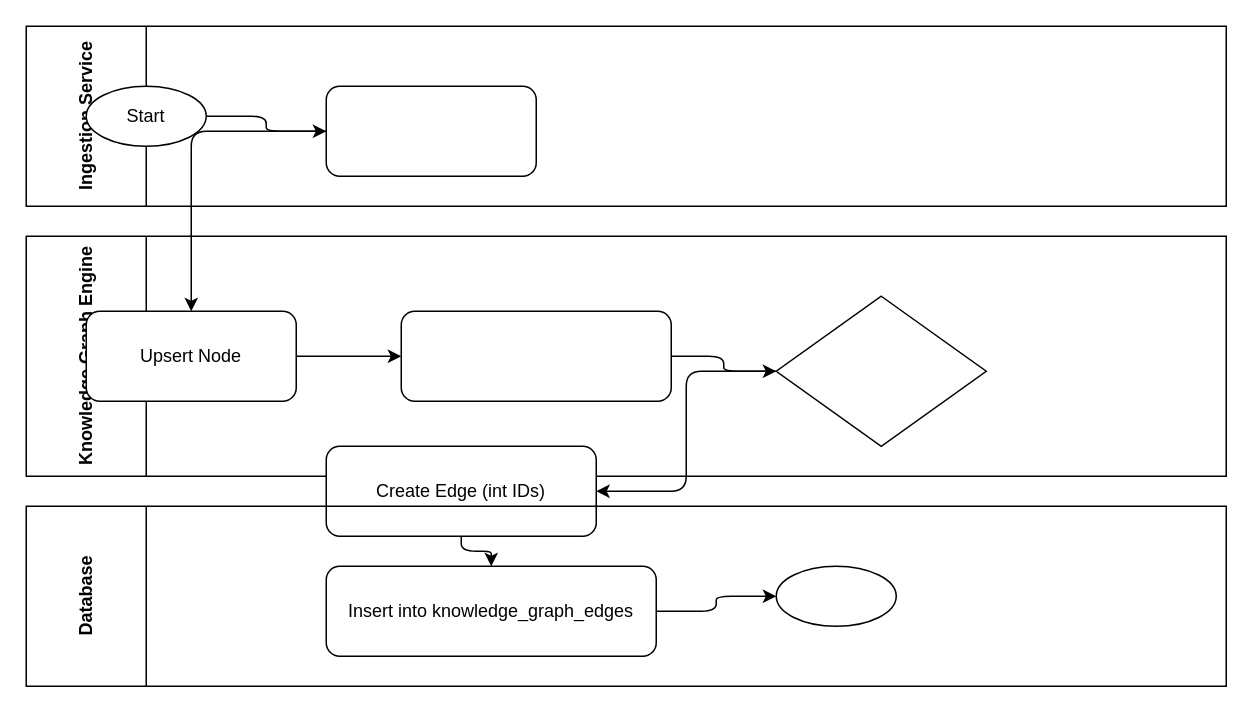
The diagram is 1253 pixels wide and 713 high, and some of its shapes have lost their labels. The shapes that lost their labels are listed below. From the top down, each one's centre as x and y in pixels, then its label:
the point at 430,130: Trigger Ingest
the point at 535,355: Query Existing Nodes
the point at 880,370: Match by content/source/tags
the point at 835,595: End
